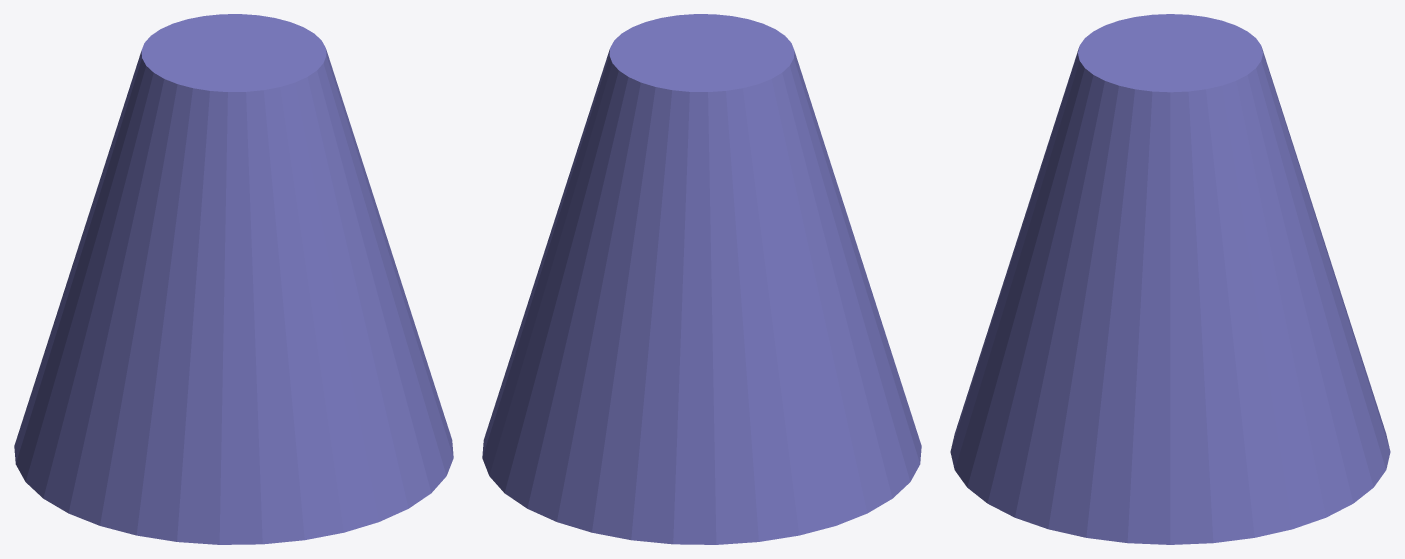
The model's file is cone_capped.obj.
3 views of the same model, side by side, from view 1: azimuth 30°, elevation 25°; view 2: azimuth 150°, elevation 25°; view 3: azimuth 270°, elevation 25° (orthographic).
Parts seen in each view (by area): view 1: Cylinder_Cylinder.001; view 2: Cylinder_Cylinder.001; view 3: Cylinder_Cylinder.001.
Part boxes in pixels (x1=…): Cylinder_Cylinder.001: x1=14, y1=14, x2=453, y2=544; Cylinder_Cylinder.001: x1=482, y1=14, x2=921, y2=544; Cylinder_Cylinder.001: x1=950, y1=14, x2=1390, y2=544.
Size of the model in its own units: 2 by 2 by 2.
